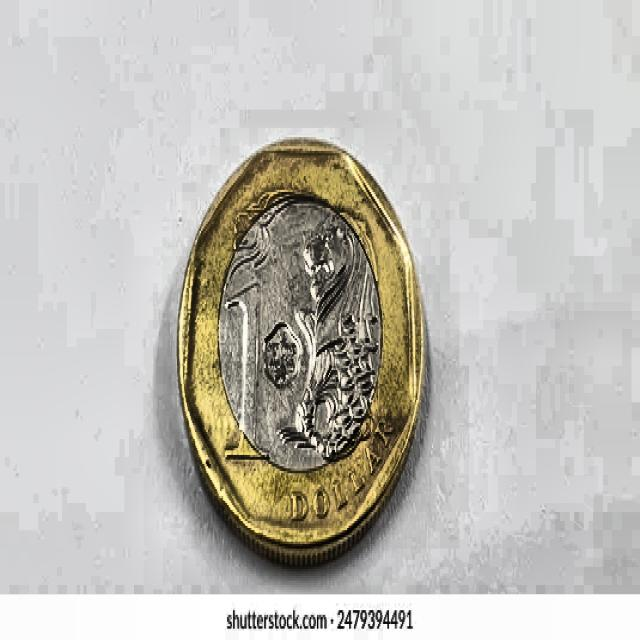coin: (178, 142, 423, 560)
